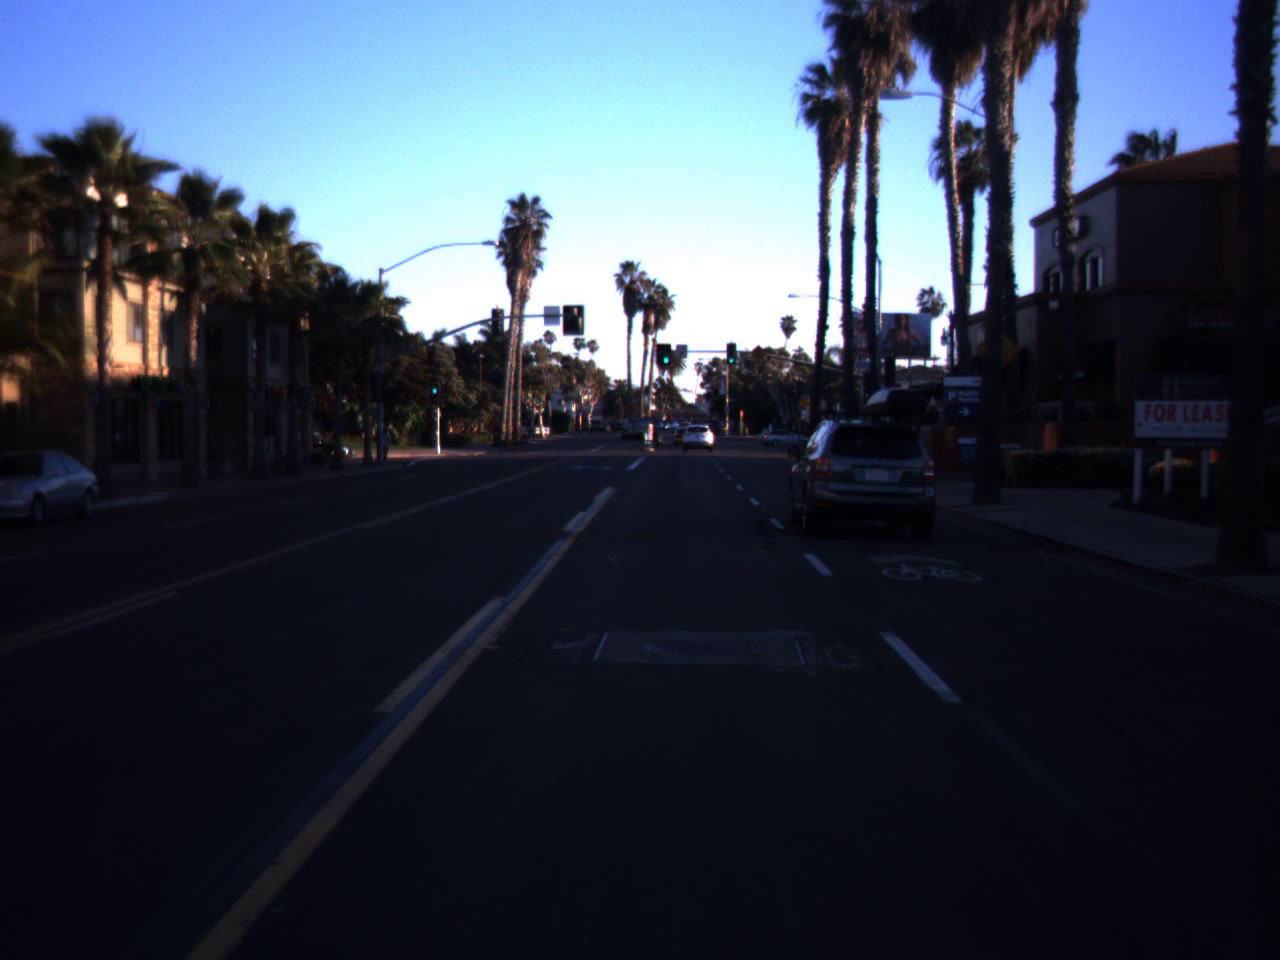go: (660, 344, 672, 364), (725, 344, 737, 364)
